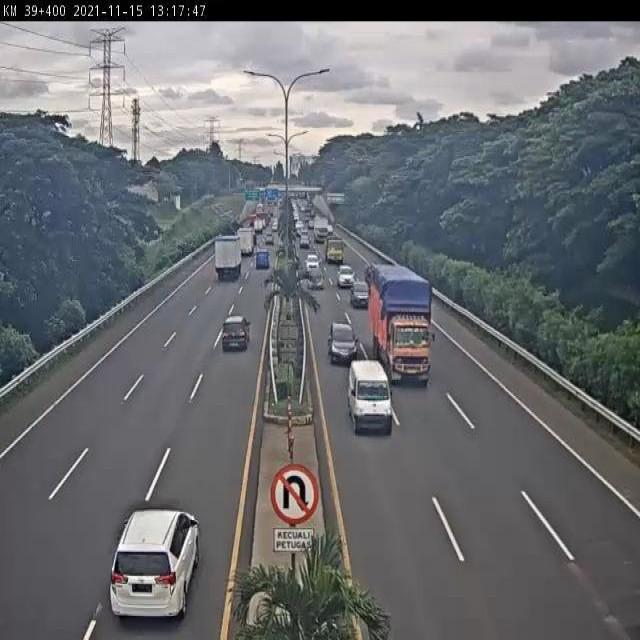car: (106, 509, 201, 620), (328, 319, 358, 369), (220, 312, 251, 355), (350, 280, 369, 307), (306, 265, 325, 291), (336, 264, 356, 288)
small truck: (347, 357, 394, 439)
truck-m-: (369, 265, 434, 383), (212, 235, 244, 284)
